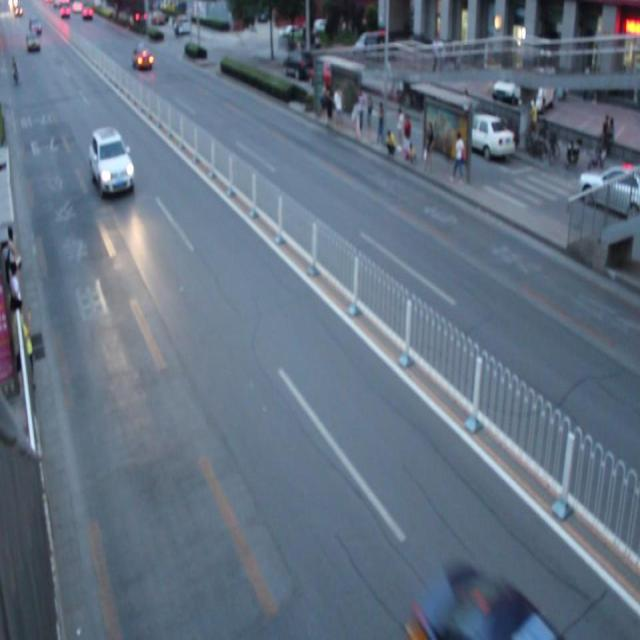car: (421, 554, 555, 640), (89, 128, 135, 196)
